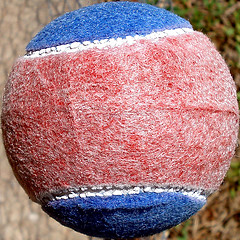tennis ball: (1, 1, 239, 240)
